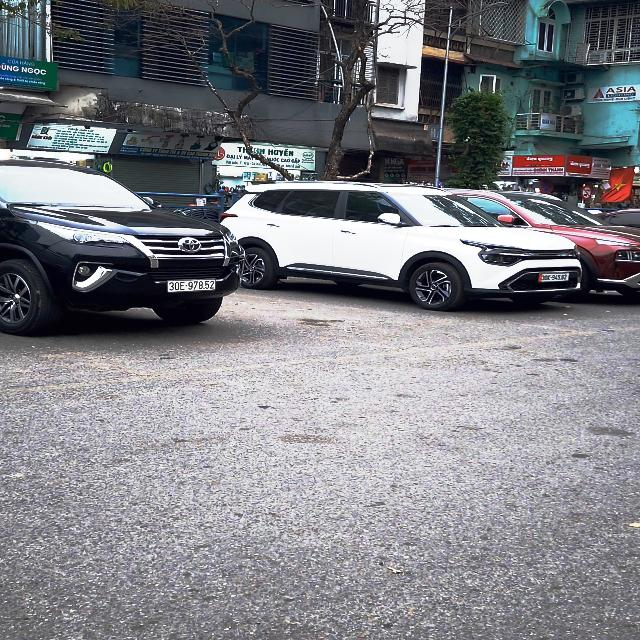license_plate: (165, 278, 220, 295), (537, 272, 573, 285)
